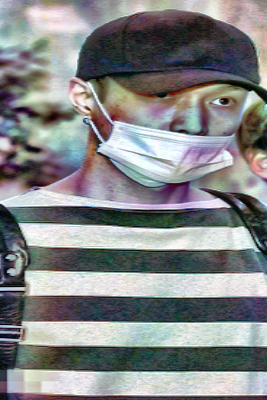mask_weared_incorrect: (91, 86, 245, 184)
